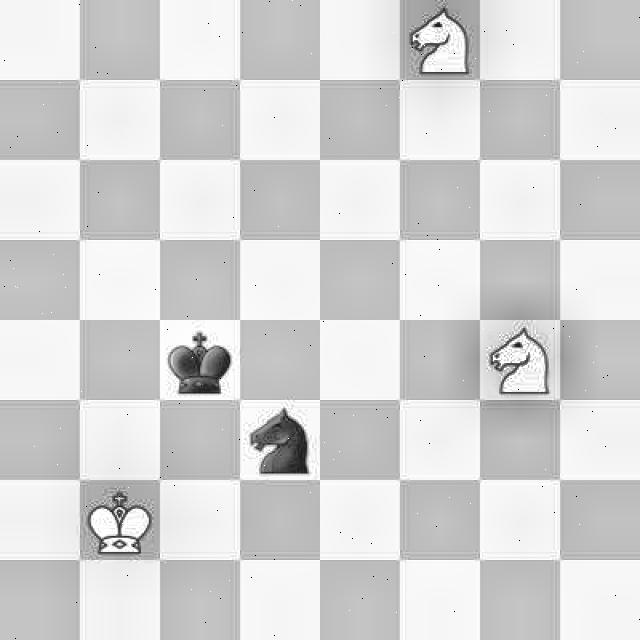Black Knight: (243, 405, 315, 476)
black king: (162, 315, 238, 400)
white king: (476, 315, 558, 401), (83, 485, 156, 556)
whiteknight: (407, 3, 472, 78)
